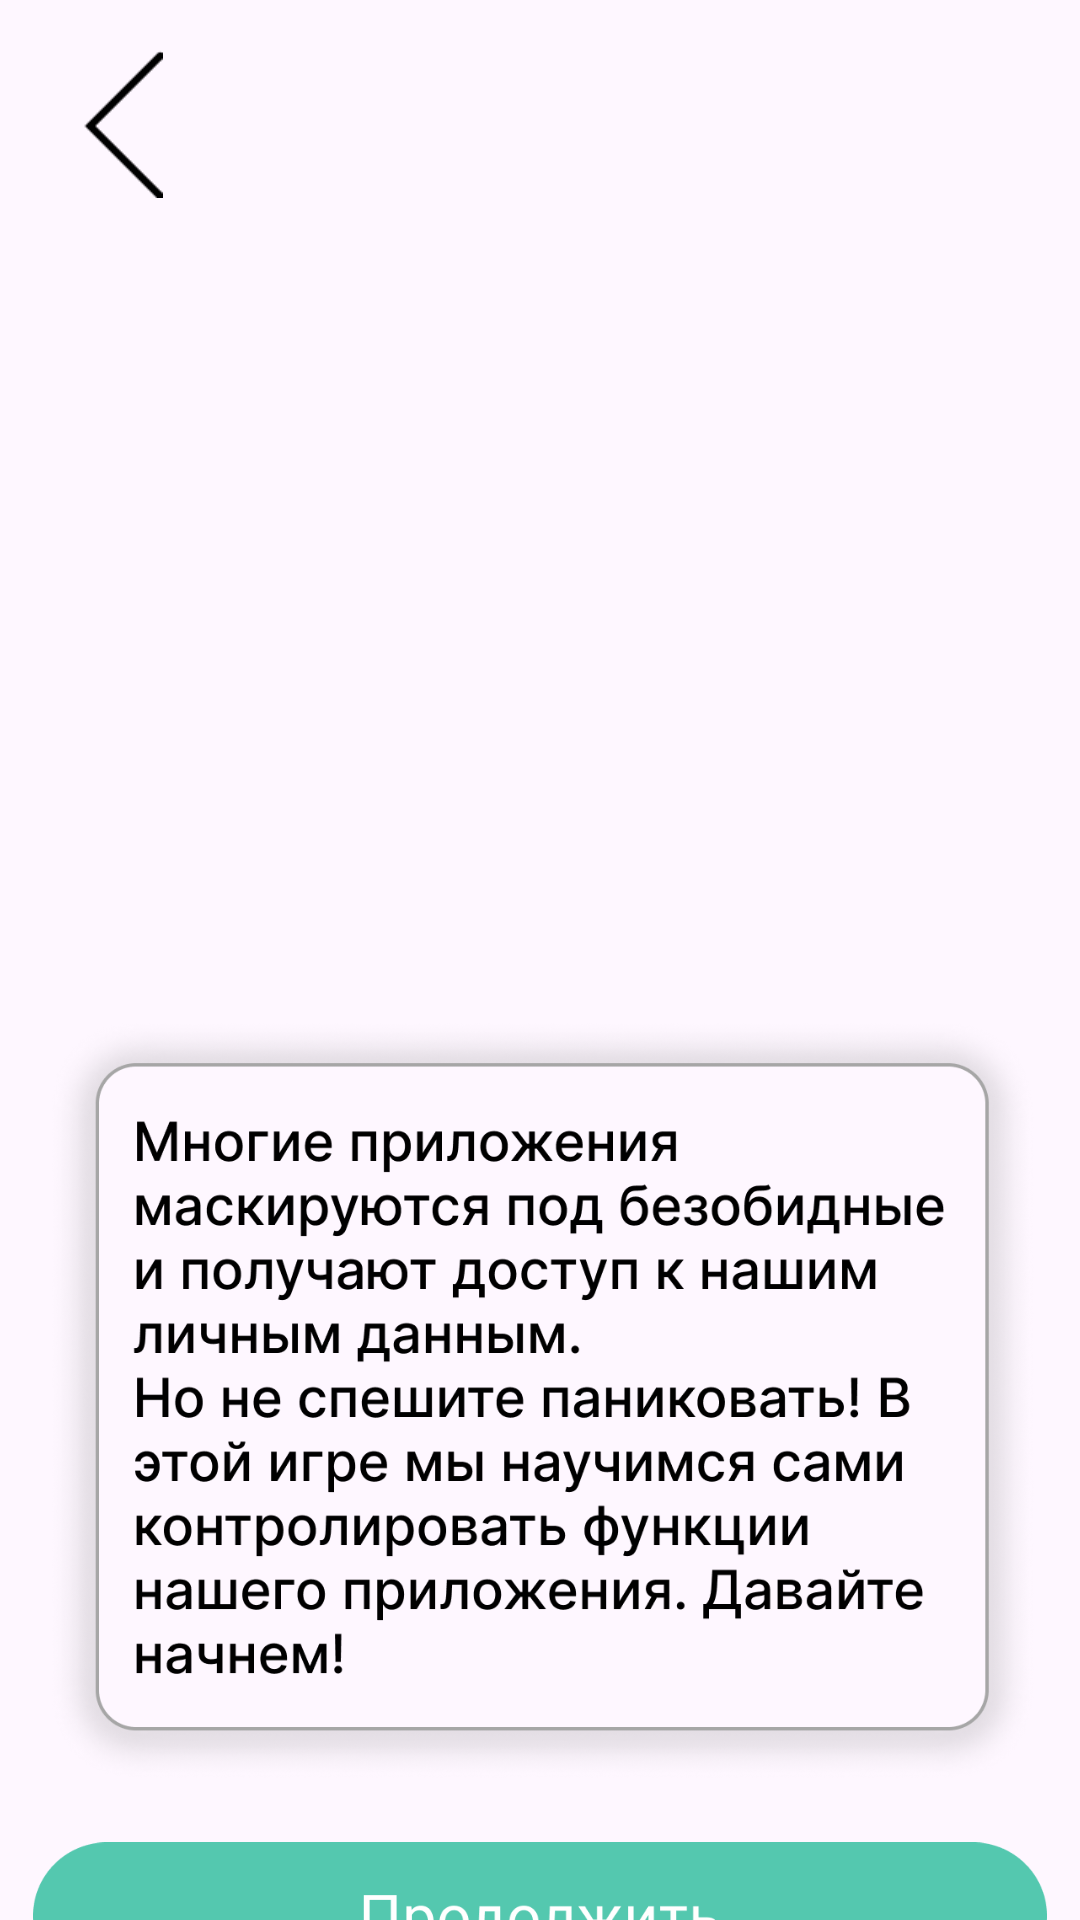

Named icons in this screenshot (1080×1920) and their centers, (x=x, y=y):
back: (x=123, y=124)
